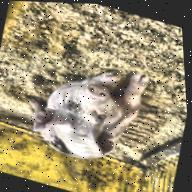boar: (10, 42, 159, 175)
